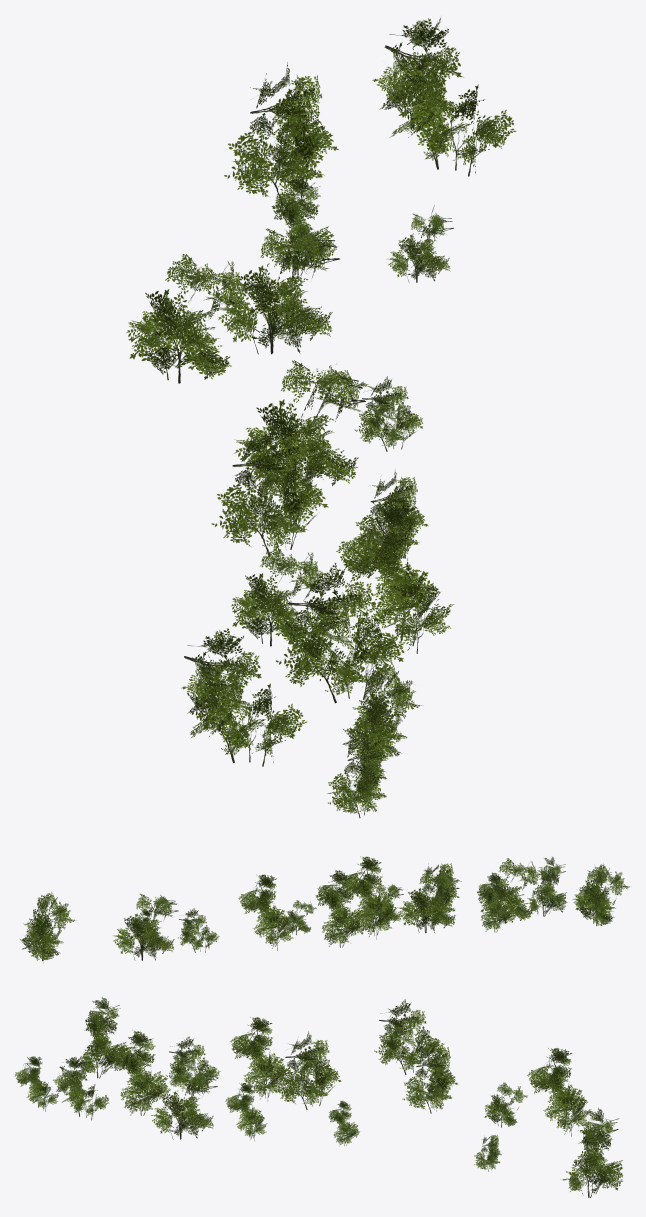
The model's file is bush_a.glb.
3 renders of one model, top to bottom at view 1: azimuth 30°, elevation 25°; view 2: azimuth 150°, elevation 25°; view 3: azimuth 270°, elevation 25°, orthographic. The views are drawn at different scales.
Parts seen in each view (by area): view 1: bush.png__; view 2: bush.png__; view 3: bush.png__.
Boxes of the visible parts, bbox=[...] form: bush.png__: bbox=[126, 17, 516, 818]; bush.png__: bbox=[20, 856, 629, 963]; bush.png__: bbox=[14, 997, 623, 1197].
Size of the model in its own units: 25.16 by 9.86 by 32.19.
Materials: 1 (1 with a texture image).
